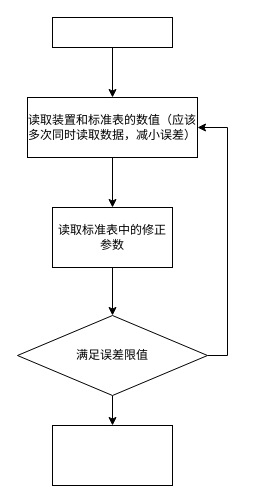
Image size: 253x503. Some labels were removed from this diagram. Here are the shapes that lost their labels. From the top down, the box of each, then its label:
(52, 16, 172, 48): 满度修正实验
(52, 424, 172, 486): 保存装置读数，标准表读数，修正参数
